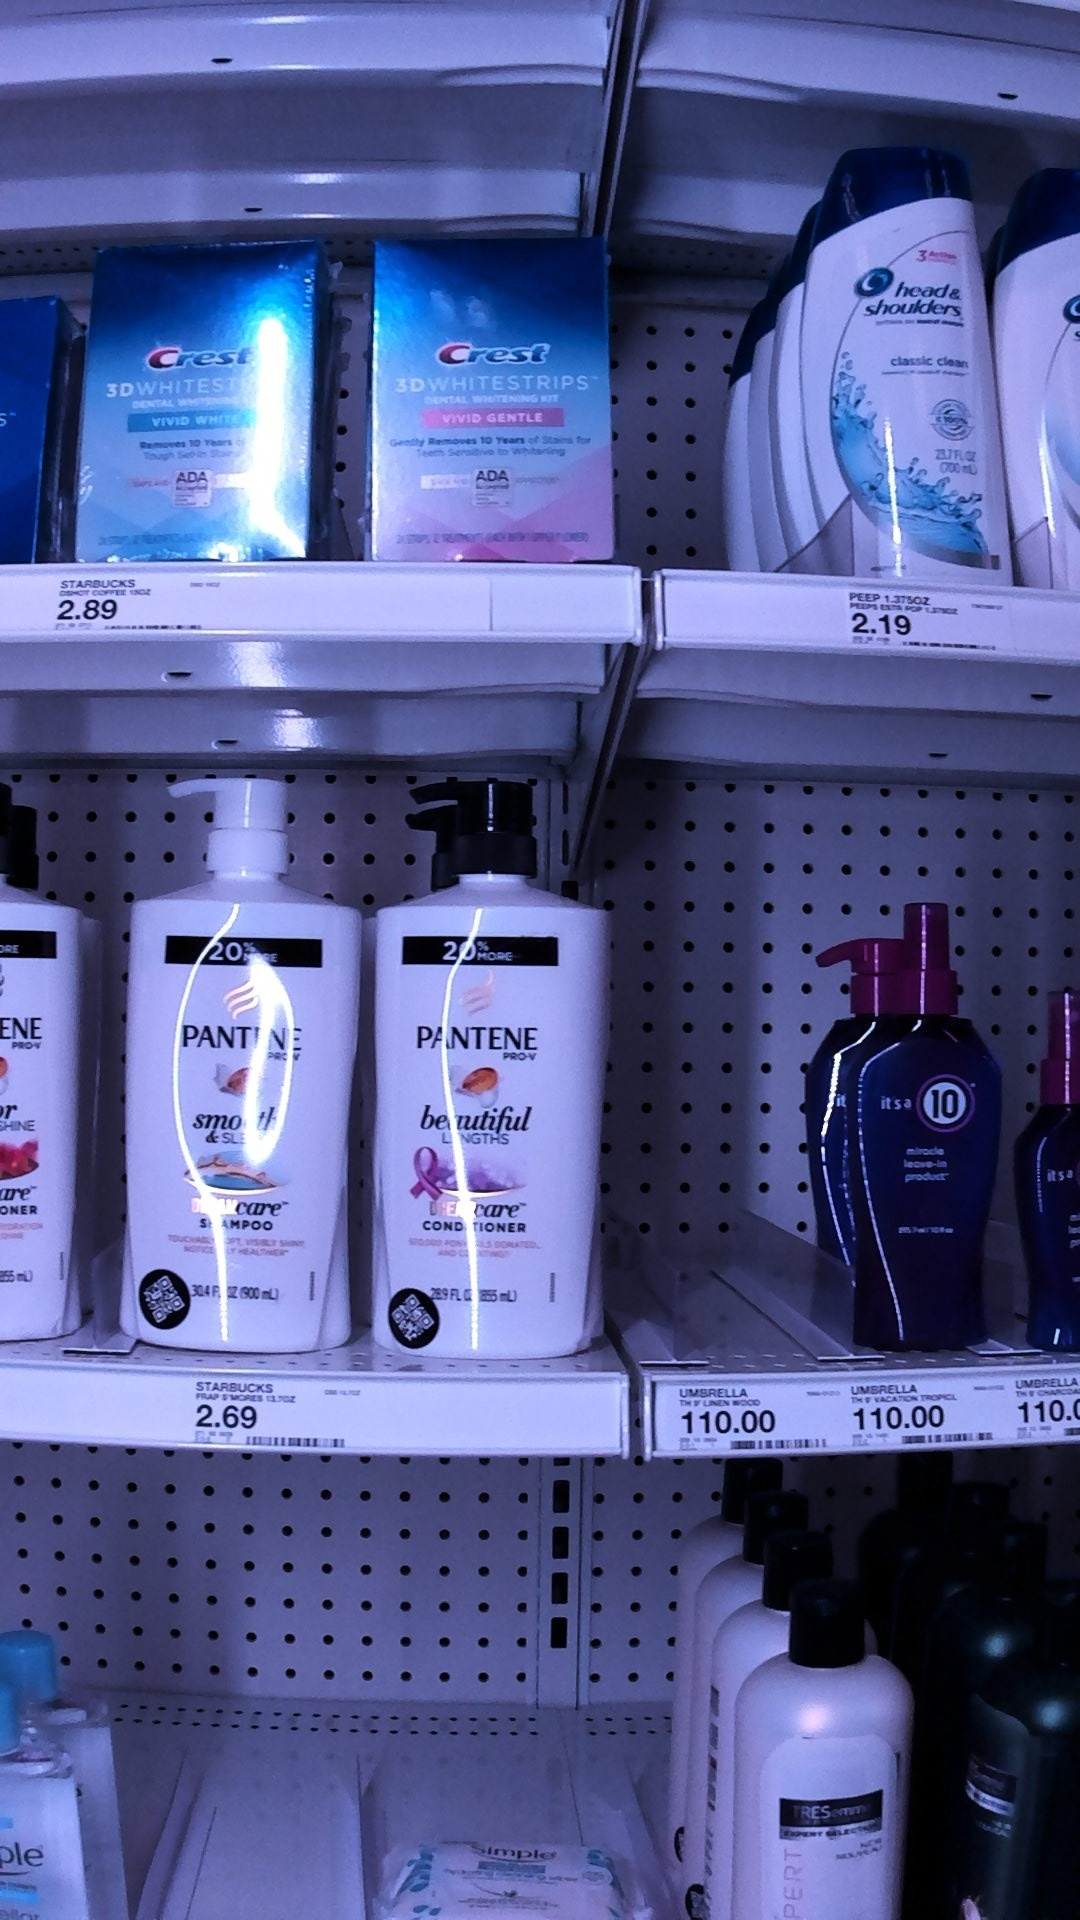ptag: (185, 1373, 363, 1460), (53, 564, 229, 644), (837, 580, 1004, 659), (651, 1377, 814, 1457), (840, 1371, 992, 1455)
